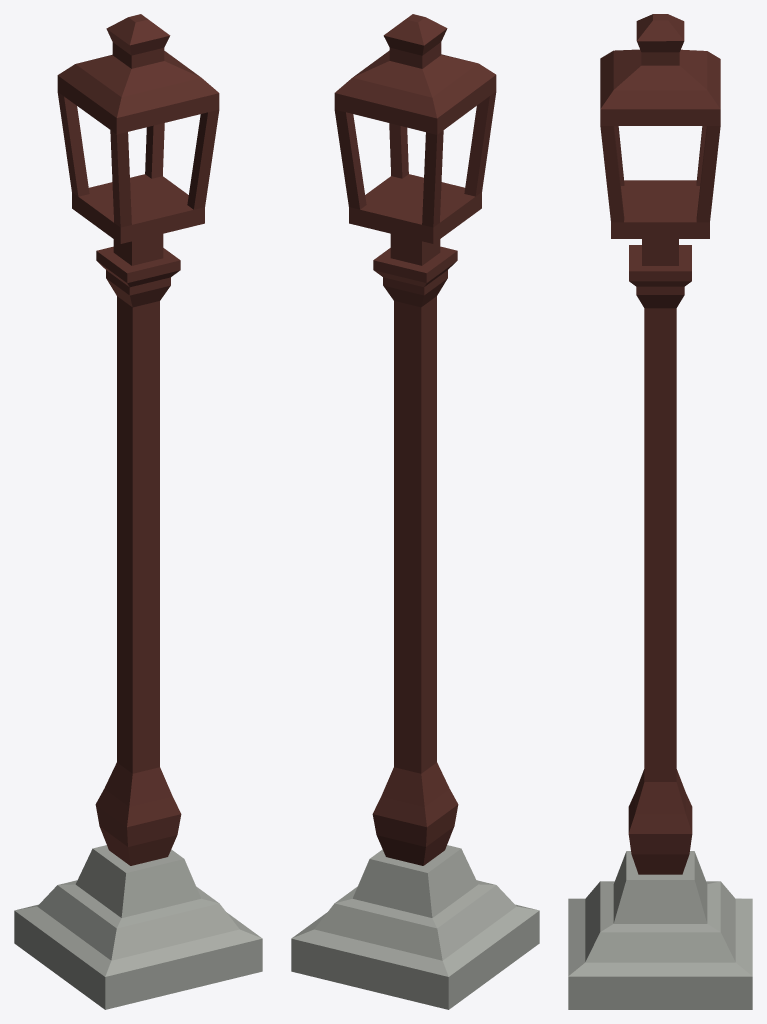
The model's file is Lamp_Post.fbx.
3 renders of one model, left to right at view 1: azimuth 30°, elevation 25°; view 2: azimuth 150°, elevation 25°; view 3: azimuth 270°, elevation 25°, orthographic.
Visible parts, largest first — view 1: StreetLamp; view 2: StreetLamp; view 3: StreetLamp.
Boxes of the visible parts, <box> form: StreetLamp: <box>14,14,262,1009</box>; StreetLamp: <box>291,14,539,1009</box>; StreetLamp: <box>568,14,752,1009</box>.
Size of what is drawn, in the model's own units: 100 by 570 by 100.
